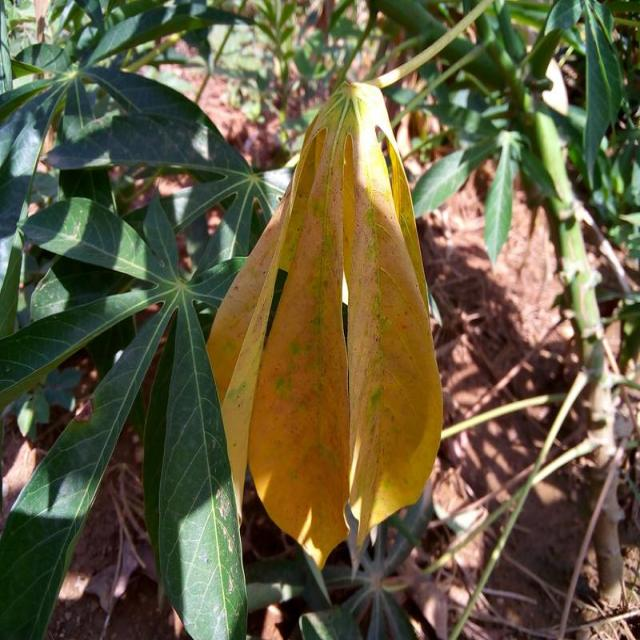cassava leaf: (205, 78, 445, 572)
